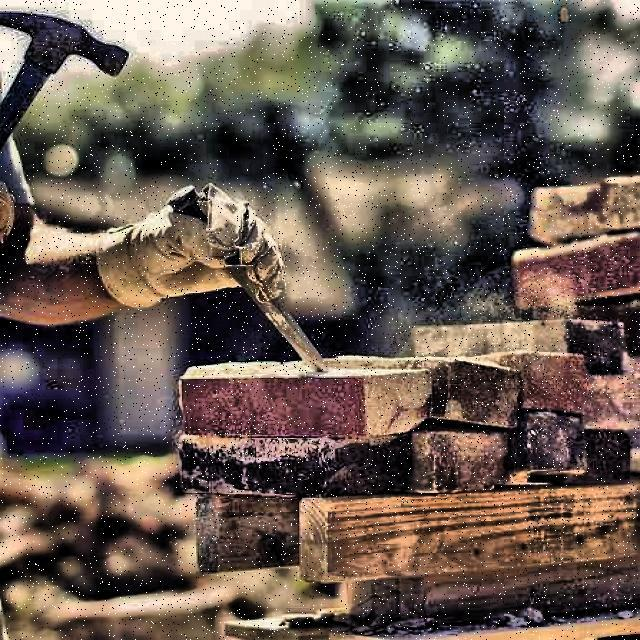hammer: (0, 9, 132, 163)
